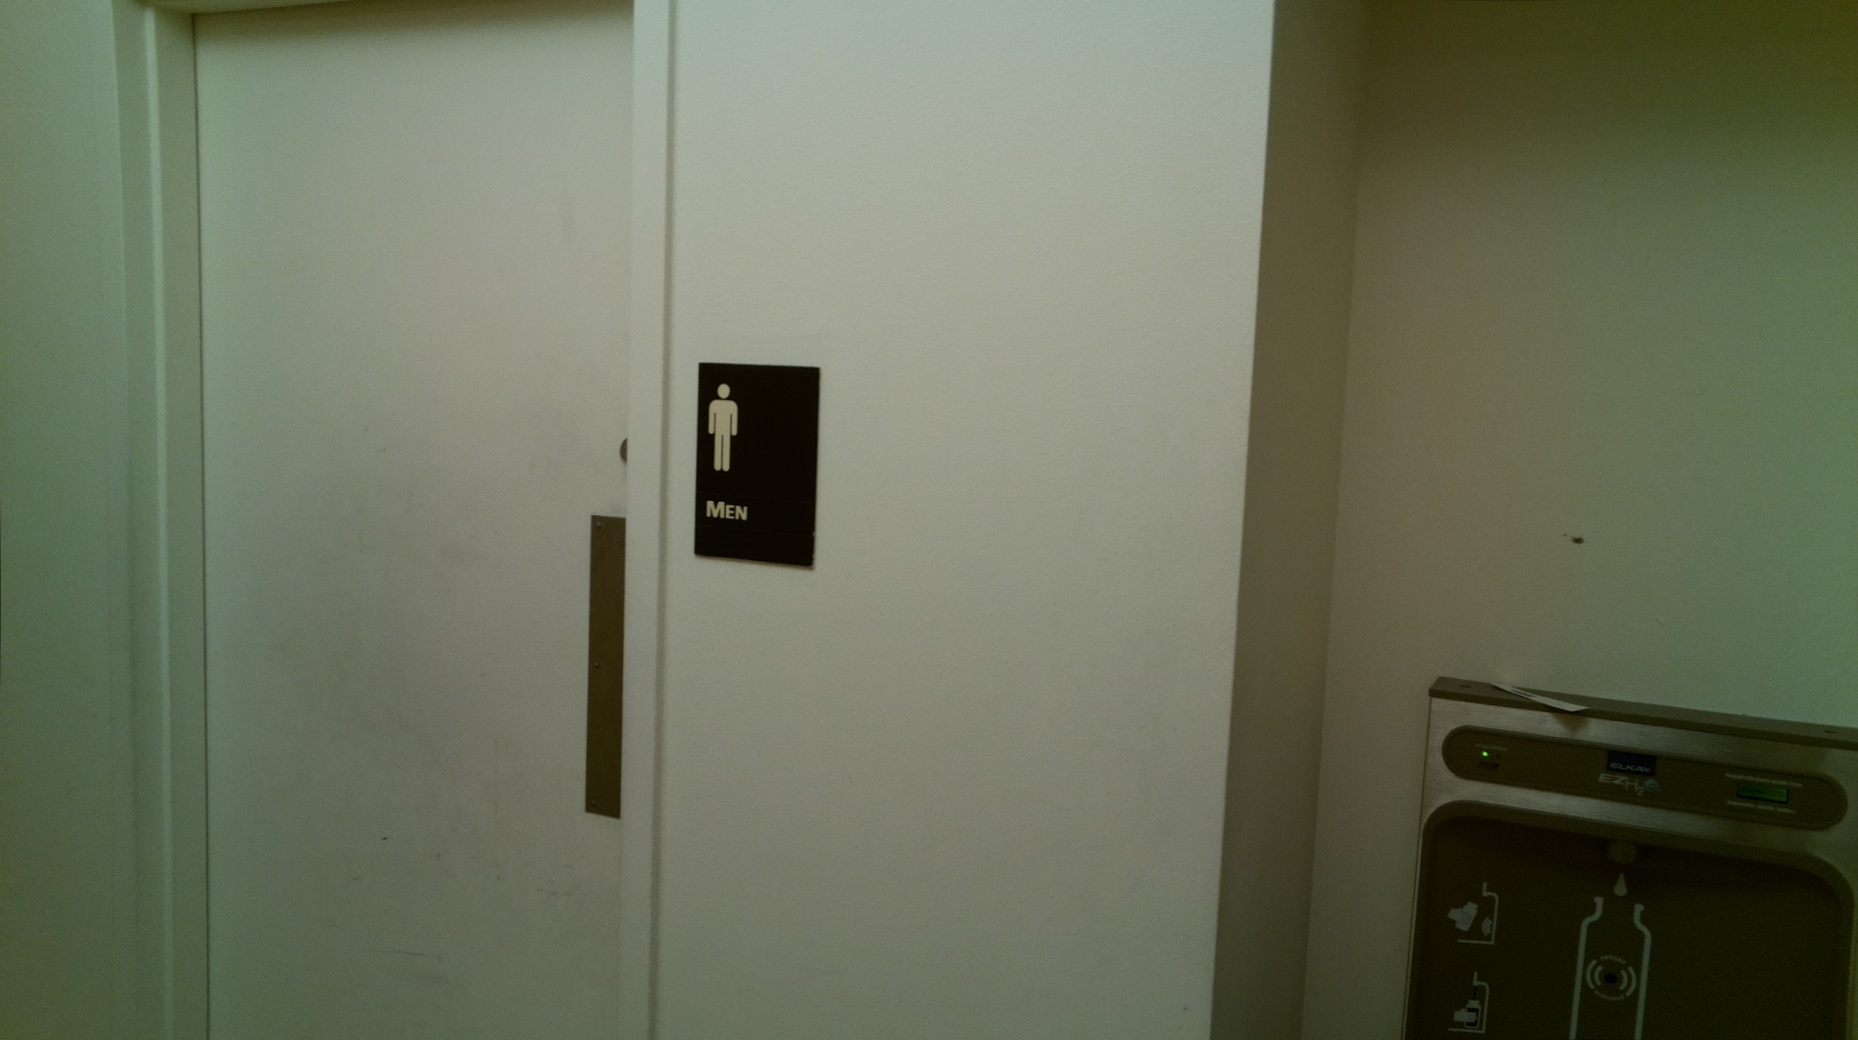bathroom sign: (687, 355, 828, 582)
